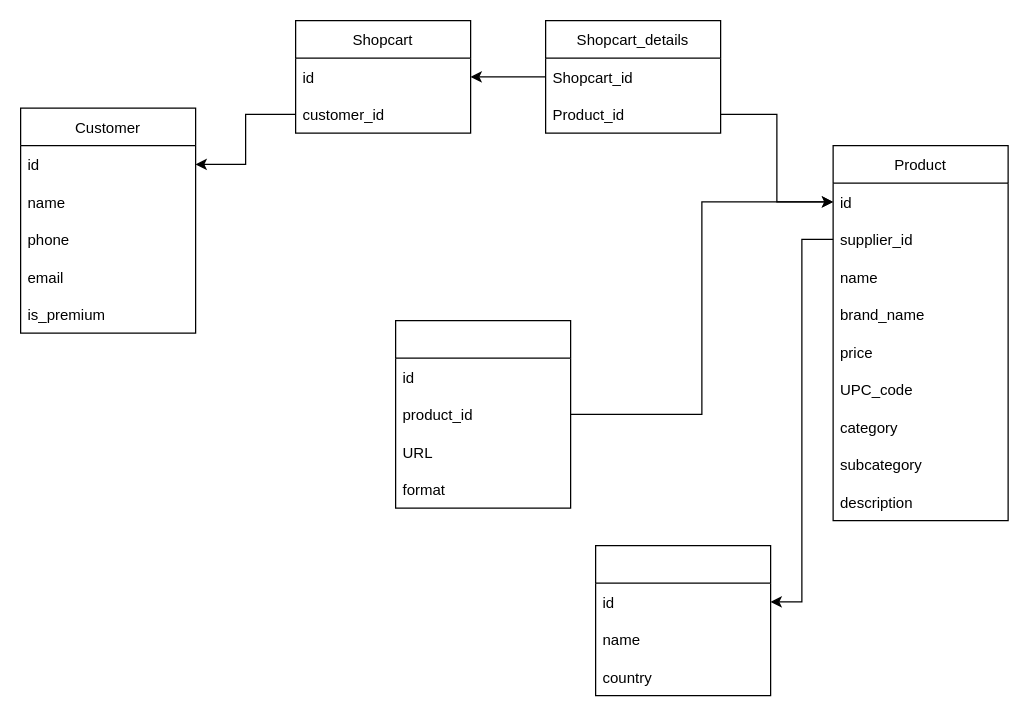
Image size: 1029x716. Some labels were removed from this diagram. The box of each missing label's shape, as (x1, y1, x2, y2) in pixels:
Product_photo: (394, 319, 571, 508)
Supplier: (594, 544, 771, 696)
